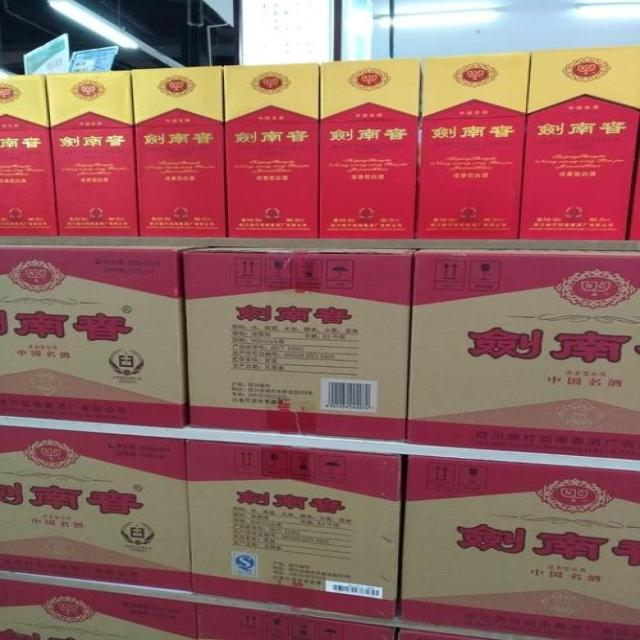box: (404, 248, 639, 460), (183, 246, 419, 441), (397, 455, 640, 640), (187, 439, 406, 620), (0, 244, 212, 427), (0, 425, 192, 590), (518, 45, 640, 240), (415, 51, 530, 240), (317, 57, 421, 239), (223, 62, 320, 239), (131, 65, 228, 238), (47, 71, 140, 237), (0, 579, 197, 640), (0, 74, 58, 236), (197, 604, 396, 640), (626, 125, 639, 240), (396, 629, 494, 640)
